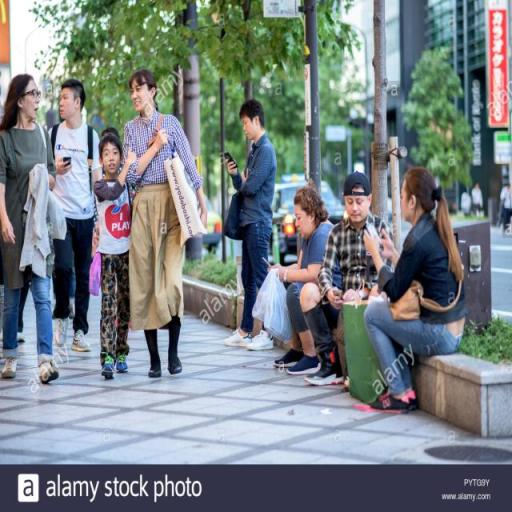person: (362, 168, 469, 418), (124, 72, 209, 378), (300, 172, 402, 388), (2, 71, 62, 382), (260, 187, 345, 382), (221, 103, 277, 353), (51, 81, 96, 352), (92, 136, 136, 382), (502, 179, 512, 236), (473, 184, 485, 221)
